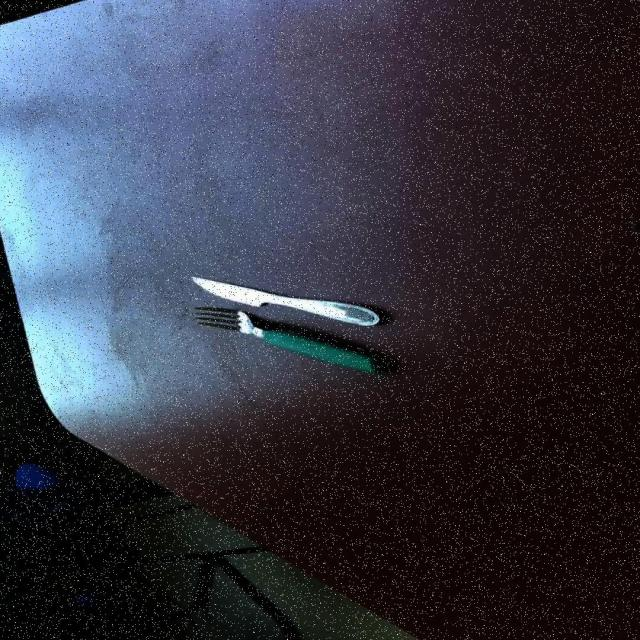Fork: (192, 306, 383, 374)
Knife: (188, 274, 380, 326)
